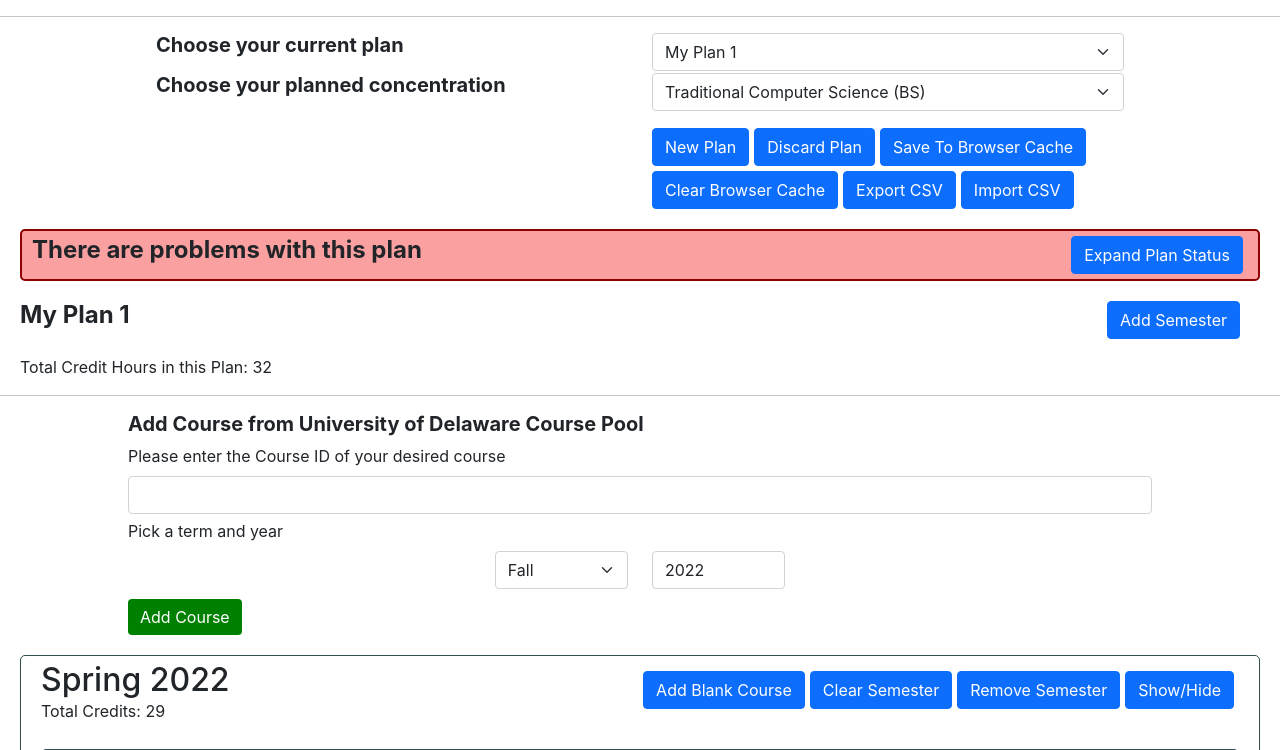
Test case: Planner Tests › Delete plan works
Select "My Plan 1" in the dropdown labelled "Choose your current plan" at (888, 52), box 652,33 -> 1124,71
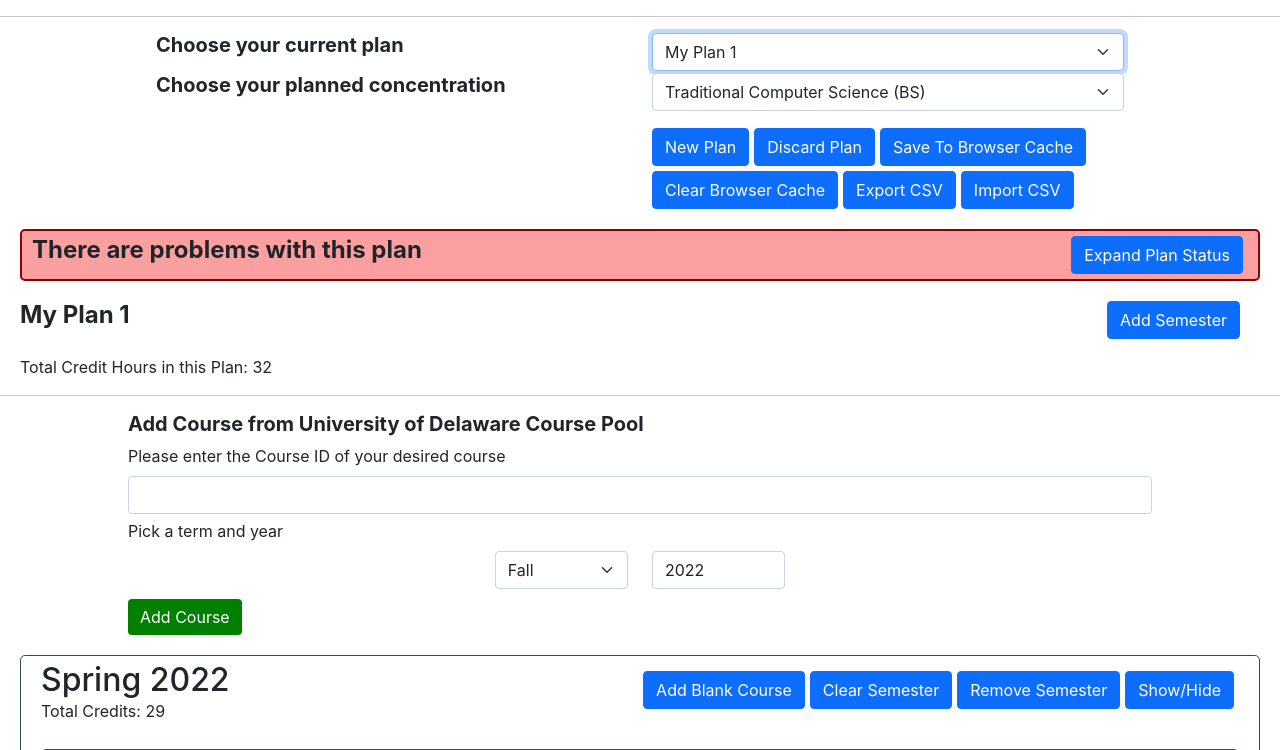
Click the button with test id "delete-plan-button".
click(815, 147)  # box 754,128 -> 875,166
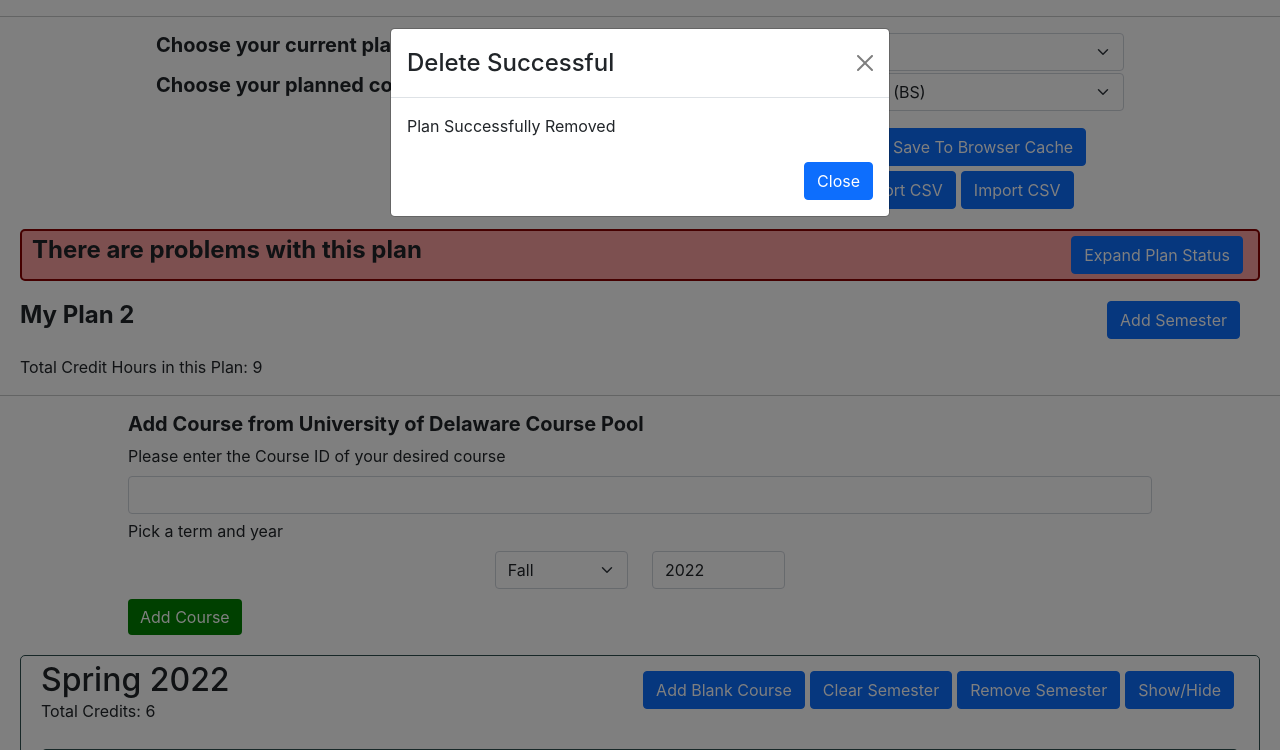
Now the text "My Plan 1" is not shown
